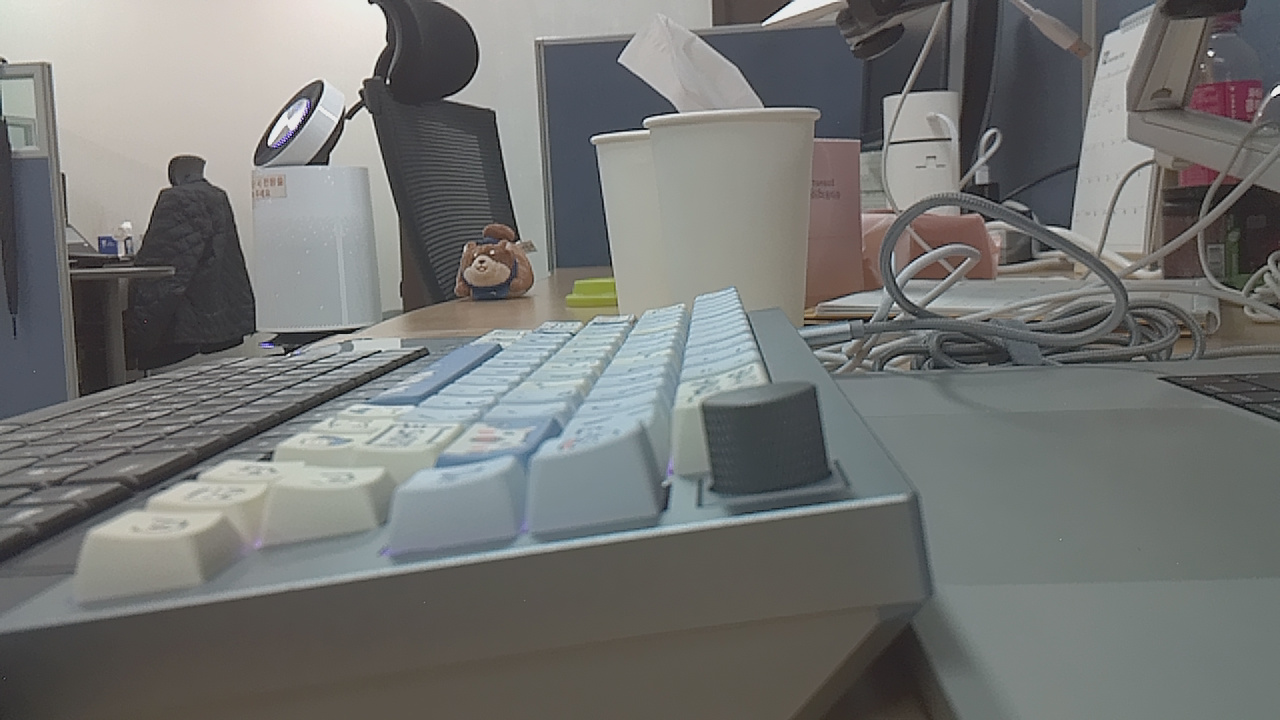cuteDog: (441, 214, 552, 313)
